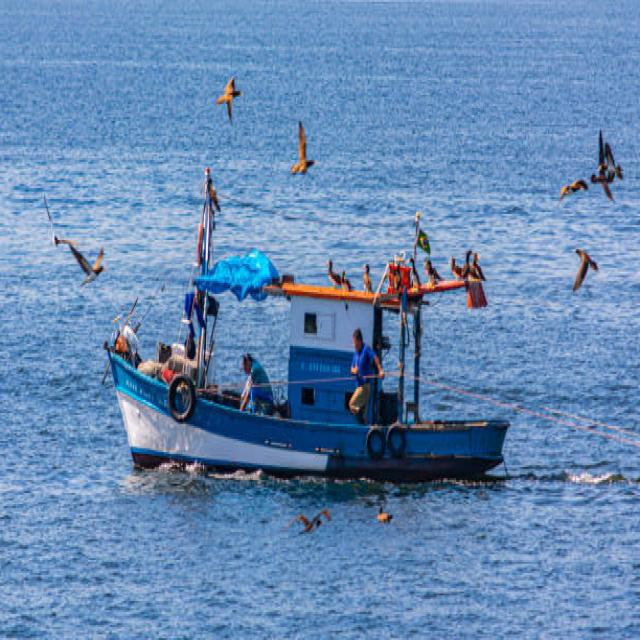Fishing Boat: (112, 238, 512, 490)
